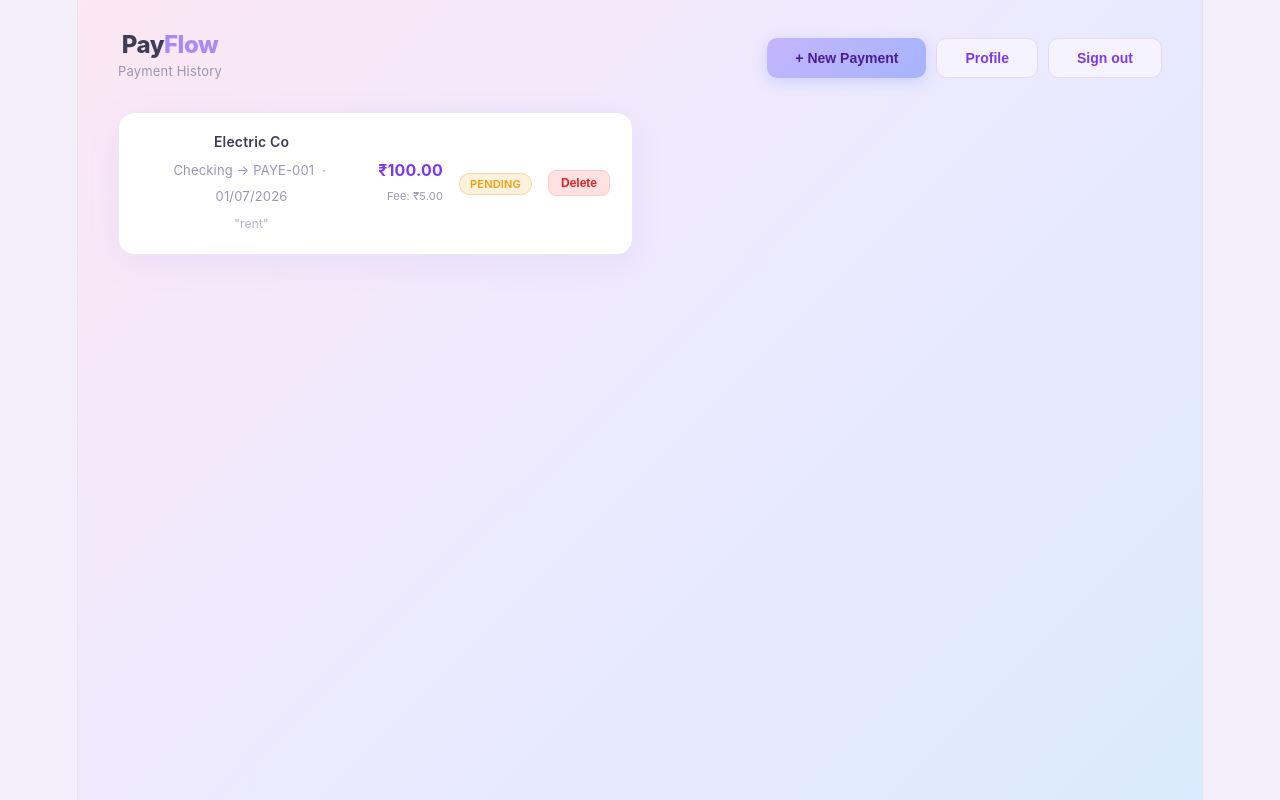
it: PaymentList › deletes a payment after confirmation
Expected: the text "Electric Co" is shown, [214,133,289,150]
Click the button "Delete".
click(579, 183)  # box [548,170,610,196]
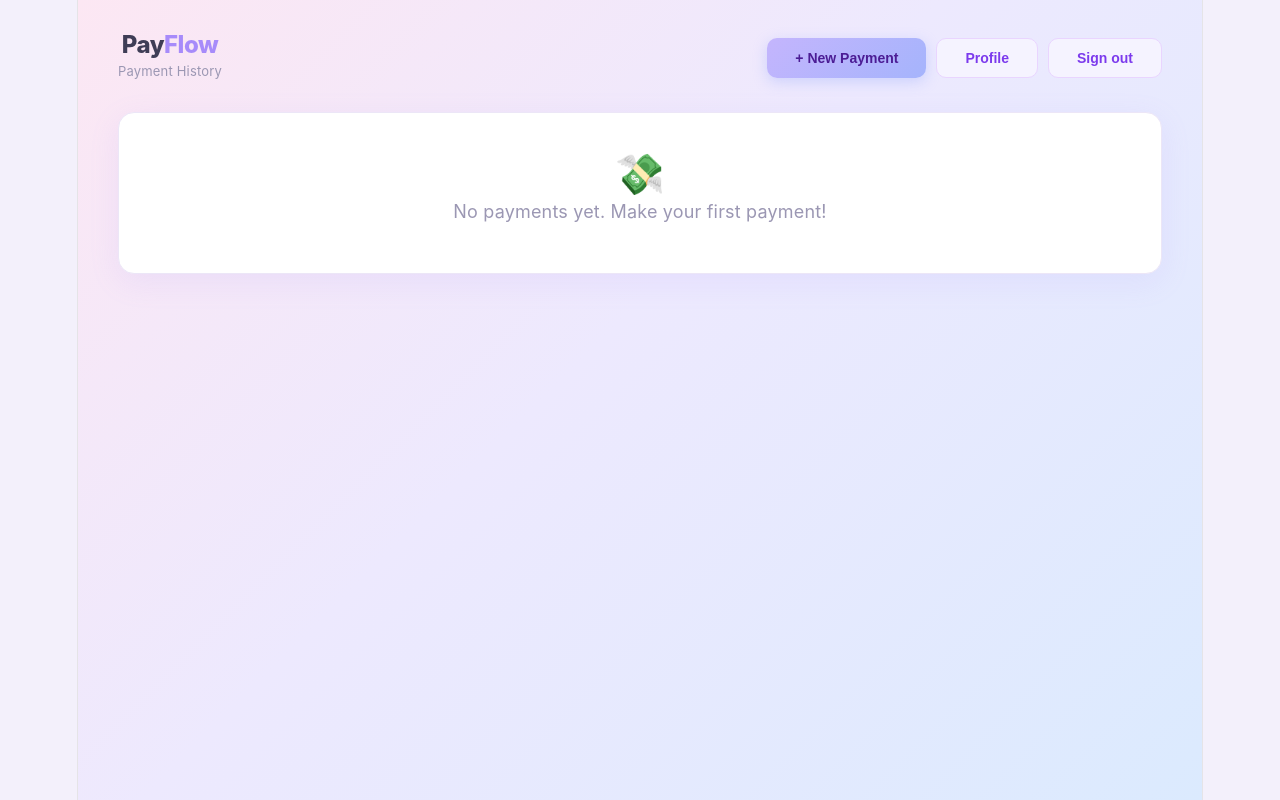
Now the text "Electric Co" is gone
